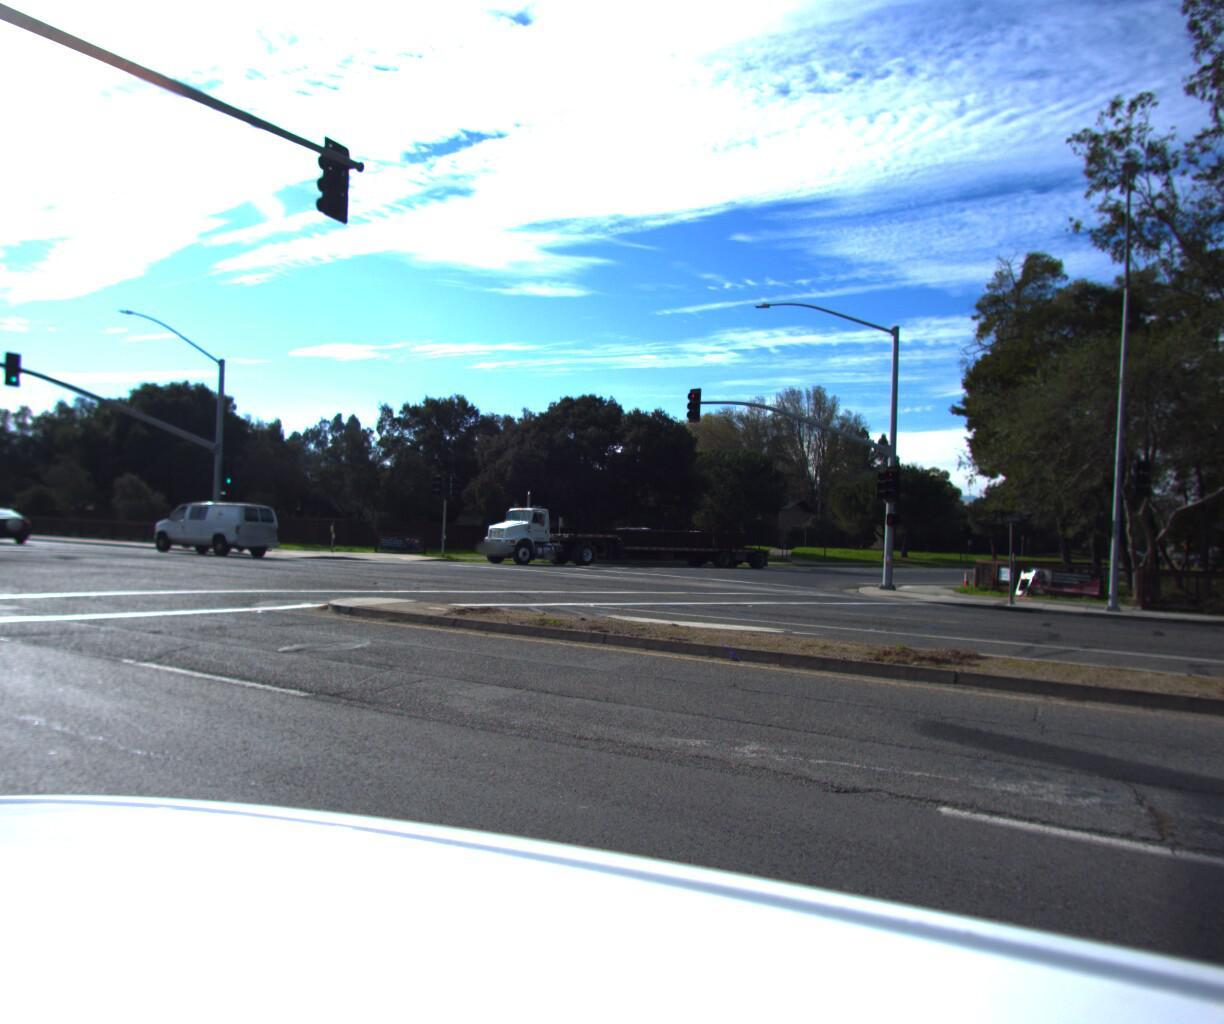car: (146, 494, 286, 552), (0, 498, 42, 539)
truck: (472, 492, 762, 573)
